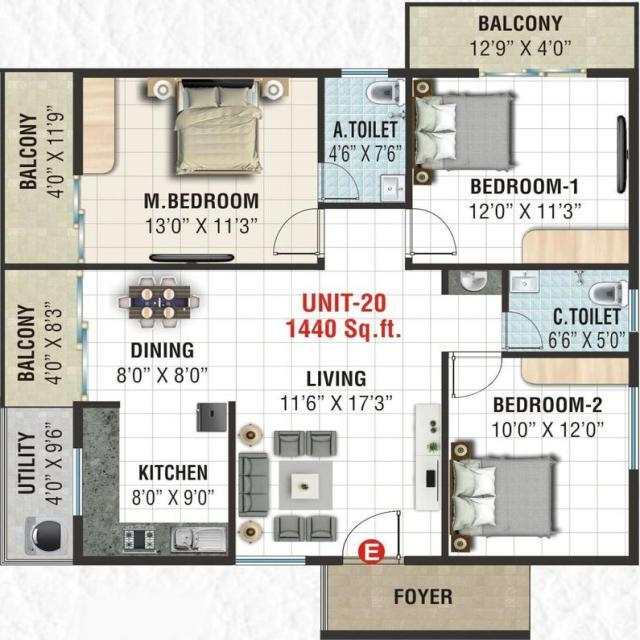Balcony-Sitout: (0, 66, 79, 268), (405, 0, 638, 68), (0, 264, 79, 411)
Bedroom: (402, 69, 632, 270), (441, 352, 640, 563)
Bedroom with Toilet: (70, 70, 322, 271)
Dining: (112, 275, 201, 332)
Enterance-Foyer: (338, 501, 407, 608)
Kitchen: (77, 402, 235, 565)
Living: (230, 397, 451, 565)
Toilet: (318, 71, 412, 211), (505, 267, 627, 360)
Utility: (1, 409, 77, 565)
